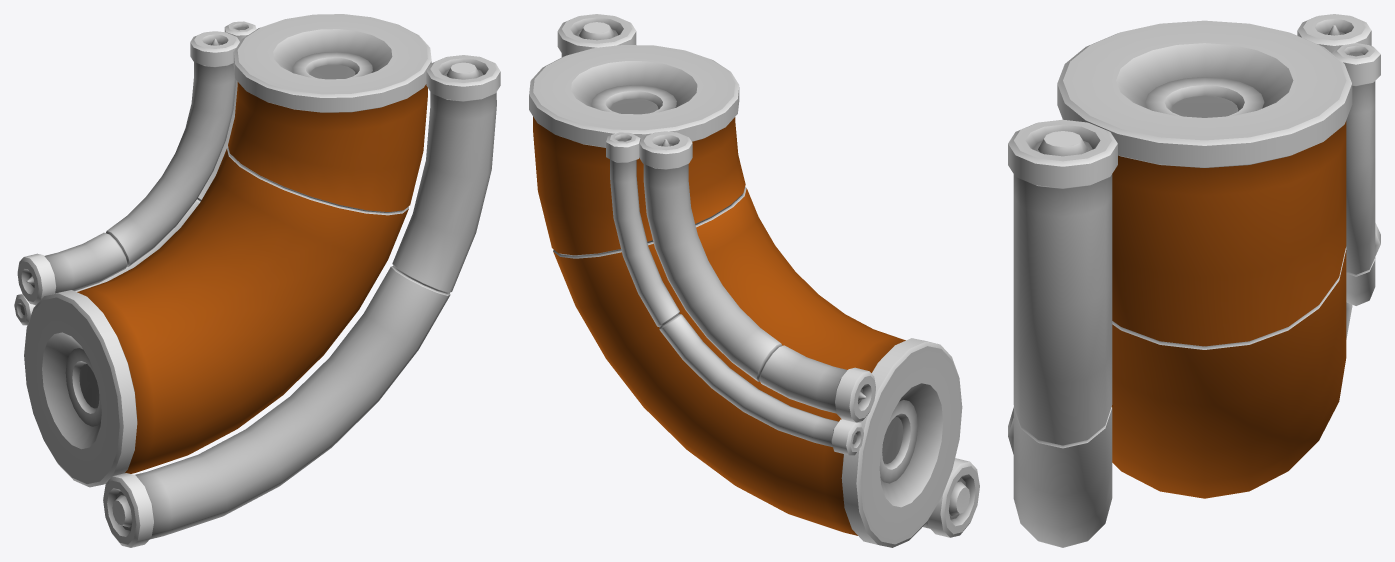
Rendered from deco_pipe_curve_U.FBX.
3 renders of one model, left to right at view 1: azimuth 30°, elevation 25°; view 2: azimuth 150°, elevation 25°; view 3: azimuth 270°, elevation 25°, orthographic. The views are drawn at different scales.
Visible parts, largest first — view 1: deco_pipe_curve_U; view 2: deco_pipe_curve_U; view 3: deco_pipe_curve_U.
Boxes of the visible parts, x1,y1,x2,y2 form: deco_pipe_curve_U: (14,14,500,547); deco_pipe_curve_U: (529,14,979,547); deco_pipe_curve_U: (1008,14,1380,547).
Size of the model in its own units: 1.44 by 1.44 by 0.8359.
